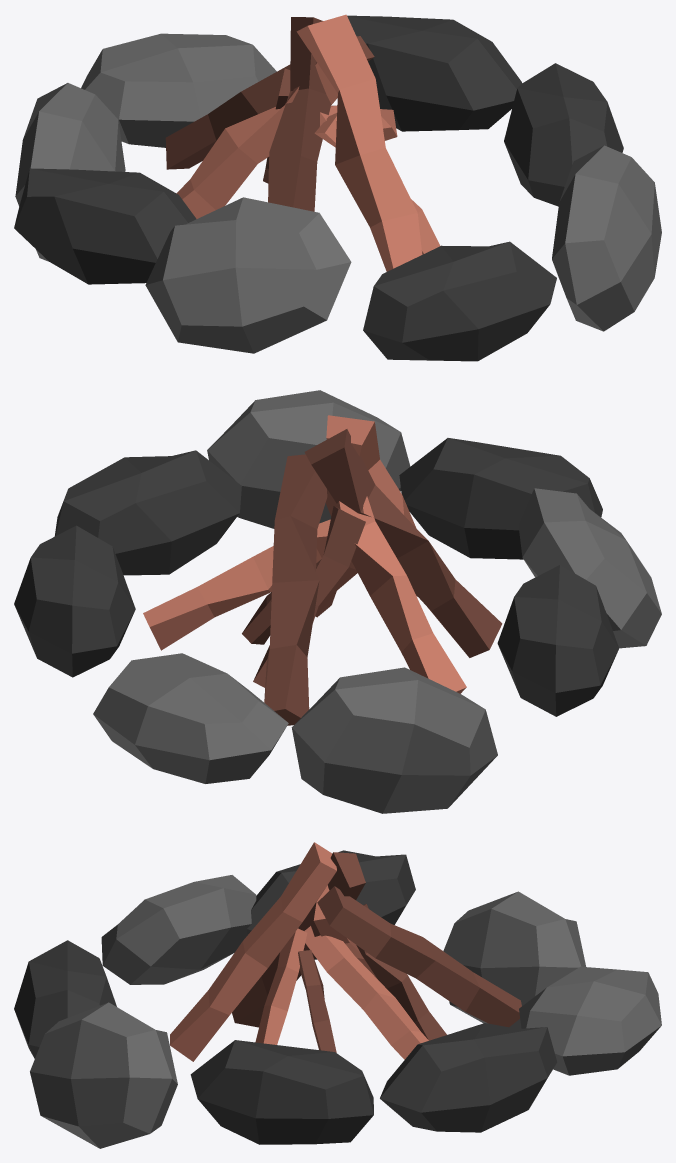
The model's file is campfire.fbx.
3 views of the same model, one above another, from view 1: azimuth 30°, elevation 25°; view 2: azimuth 150°, elevation 25°; view 3: azimuth 270°, elevation 25° (orthographic). The views are drawn at different scales.
Visible parts, largest first — view 1: Campfire; view 2: Campfire; view 3: Campfire.
Boxes of the visible parts, bbox=[...] form: Campfire: bbox=[14, 14, 661, 361]; Campfire: bbox=[14, 390, 661, 813]; Campfire: bbox=[14, 842, 661, 1148].
Size of the model in its own units: 258 by 118 by 288.
